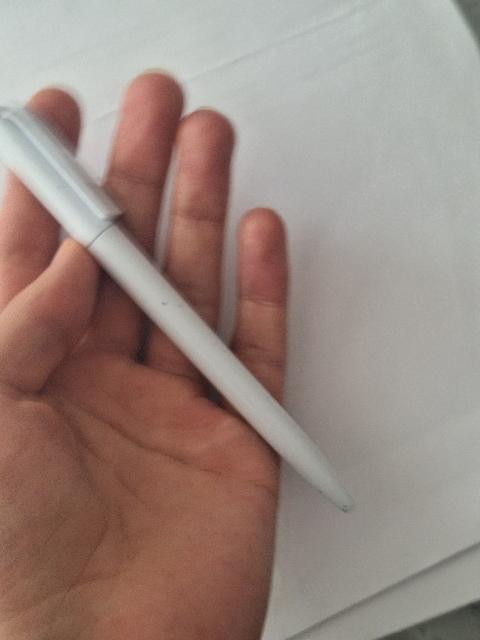writing_tool: (0, 99, 360, 521)
